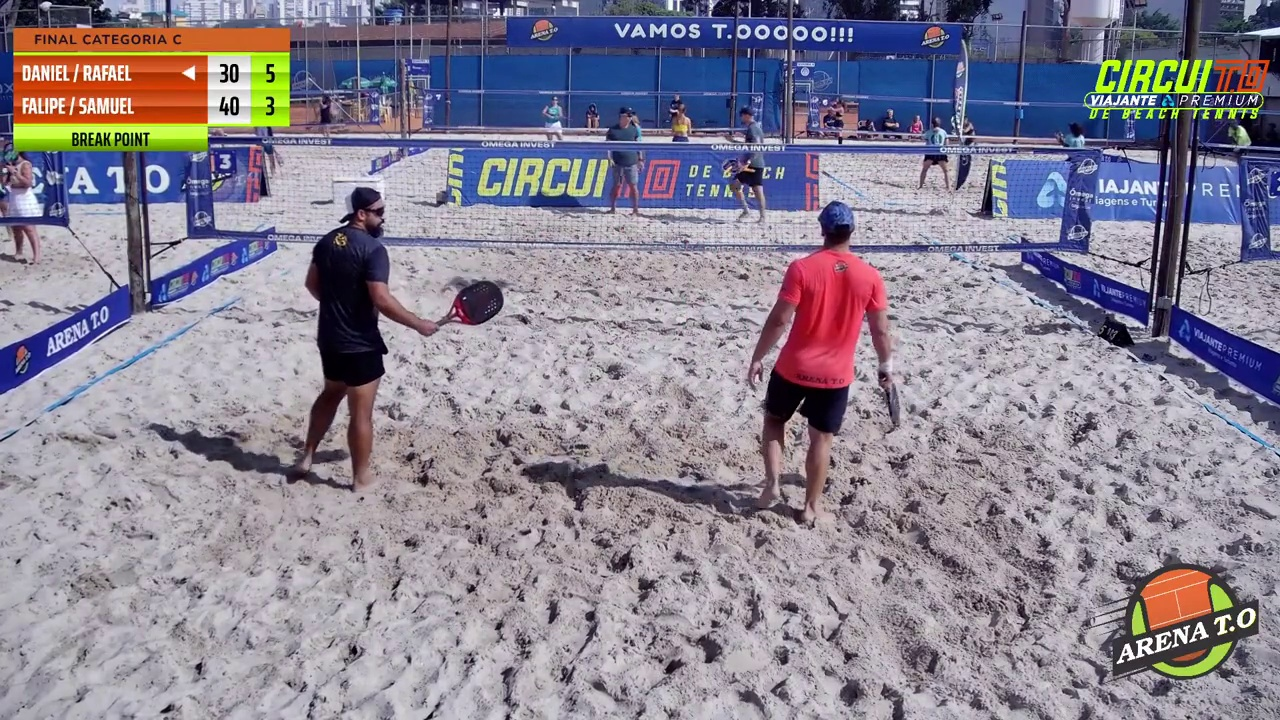court_line: (640, 0, 779, 527), (546, 0, 666, 495)
